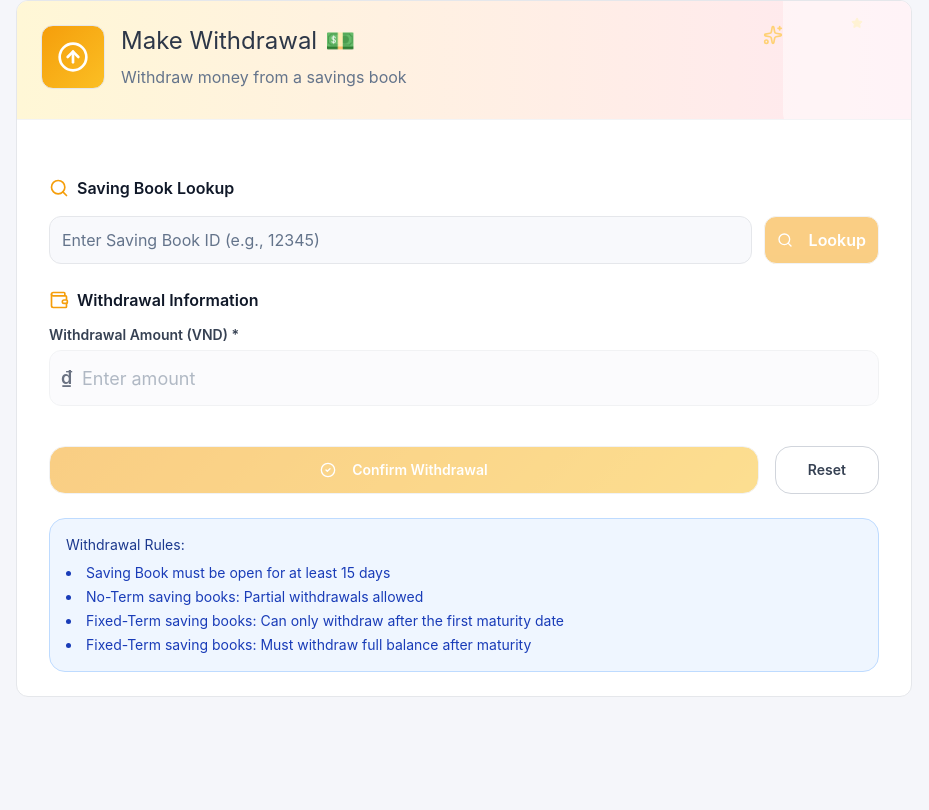
Scenario: UC07 - Make Withdrawal › Validation - No Term Account › should reject withdrawal when account not open for minimum days
Expected: the button "Lookup" is shown, top-left (764, 216), bottom-right (879, 264)
In the field with placeholder "Enter Saving Book ID (e.g., 12345)": (400,240) top-left (49, 216), bottom-right (752, 264), type "12345"
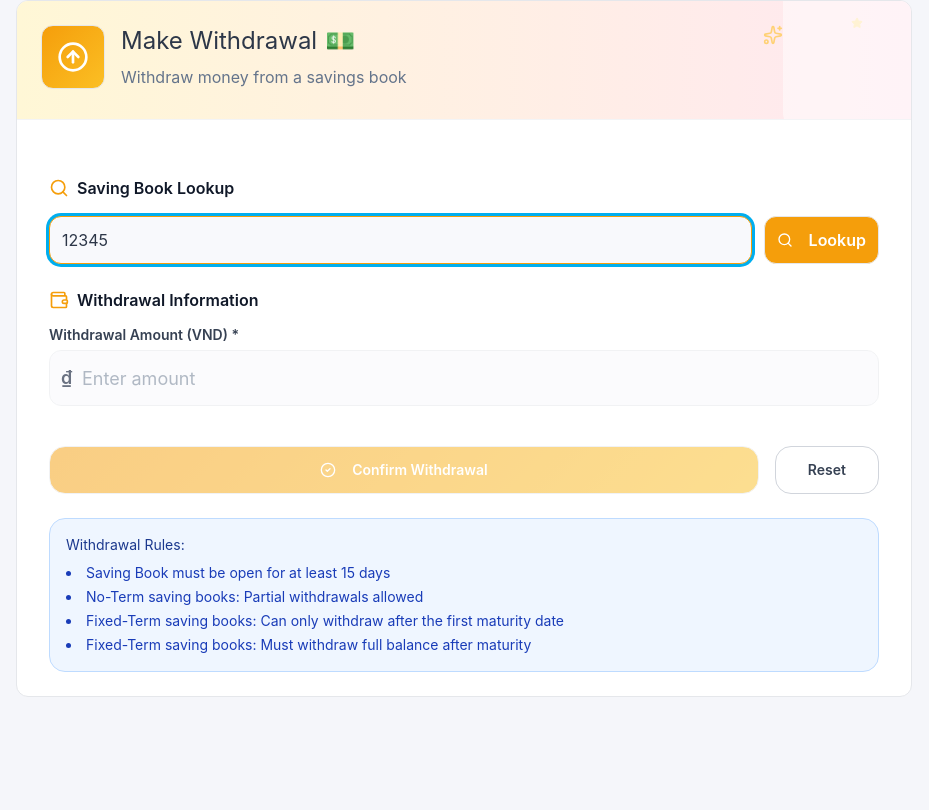
Click the button "Lookup": (821,240) top-left (764, 216), bottom-right (879, 264)
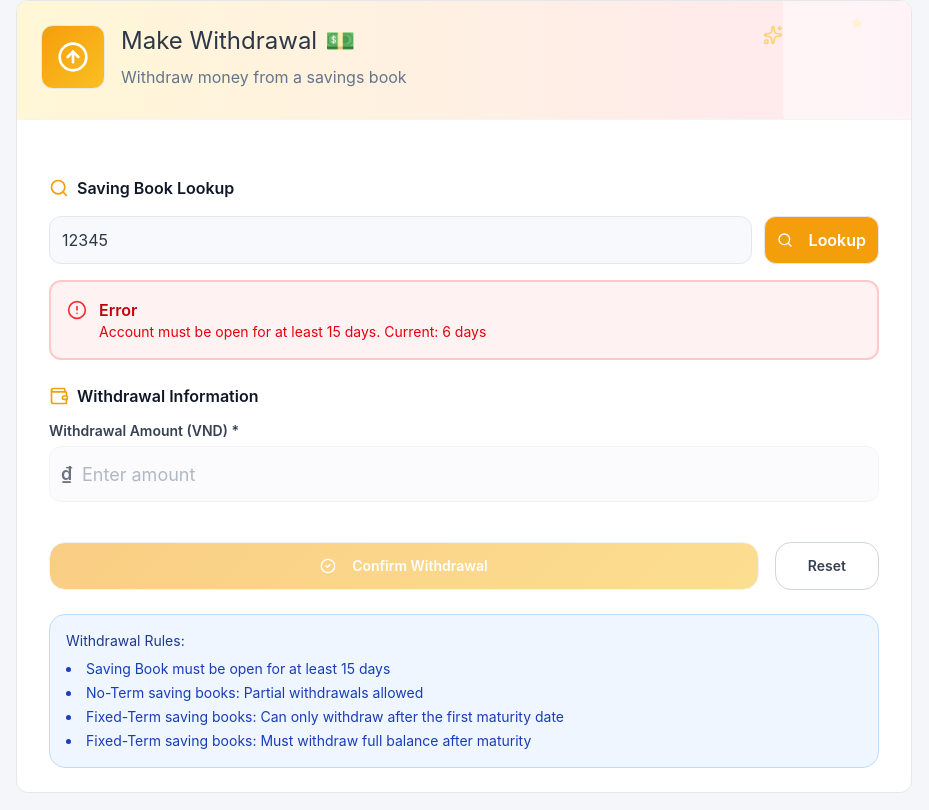
Expected: the text "Error" is shown, top-left (99, 300), bottom-right (137, 320)
